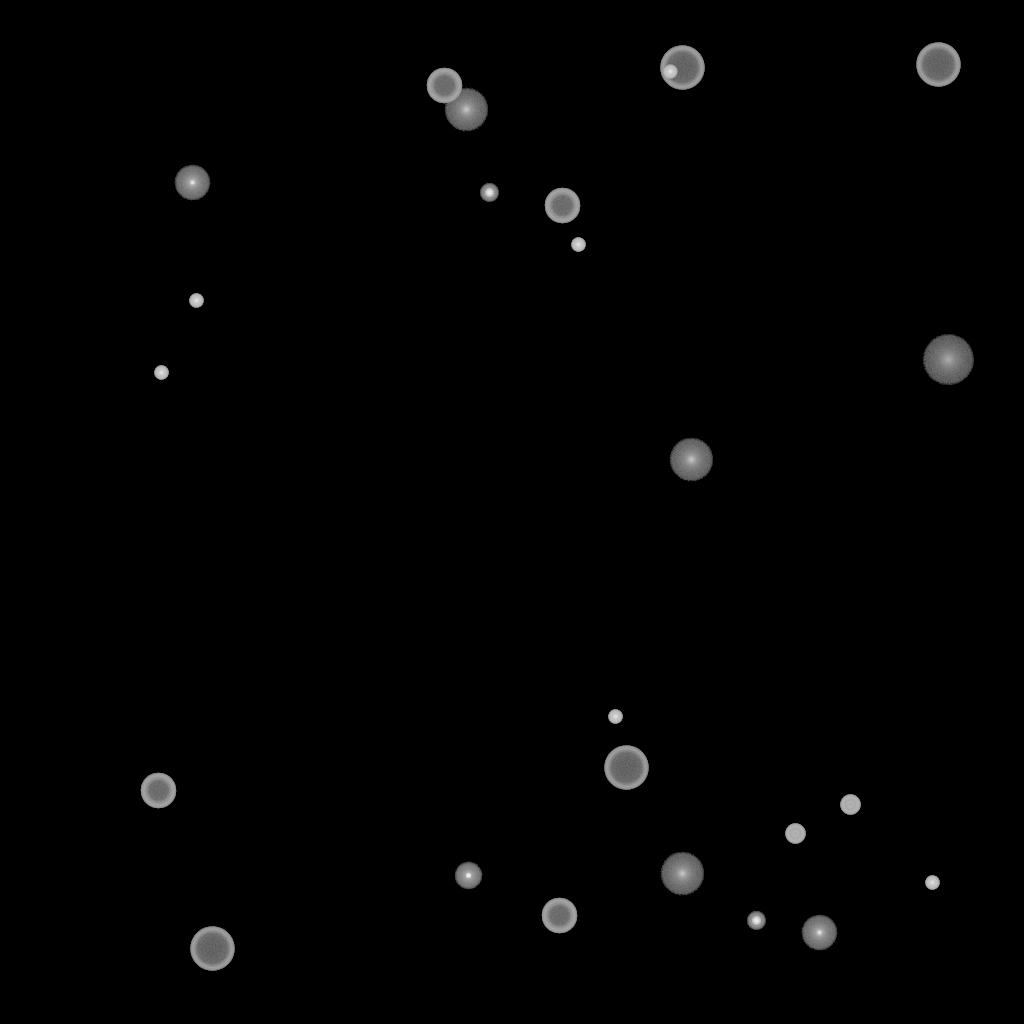depth:-10: (454, 862, 482, 890)
depth:-20: (480, 184, 498, 202), (747, 912, 765, 930)
depth:-30: (925, 876, 939, 890), (154, 366, 168, 380), (571, 238, 585, 252), (663, 65, 677, 79), (189, 294, 203, 308), (608, 710, 622, 724)
depth:-40: (840, 795, 860, 815), (785, 824, 805, 844)
depth:-60: (541, 898, 577, 934), (544, 188, 580, 224), (426, 68, 462, 104), (140, 773, 176, 809)
depth:-70: (604, 746, 648, 790), (190, 927, 234, 971), (916, 43, 960, 87), (660, 46, 704, 90)
depth:0: (174, 165, 210, 201), (801, 915, 837, 951)
depth:10: (660, 852, 704, 896), (444, 88, 488, 132), (669, 438, 713, 482)
depth:20: (922, 335, 974, 385)
